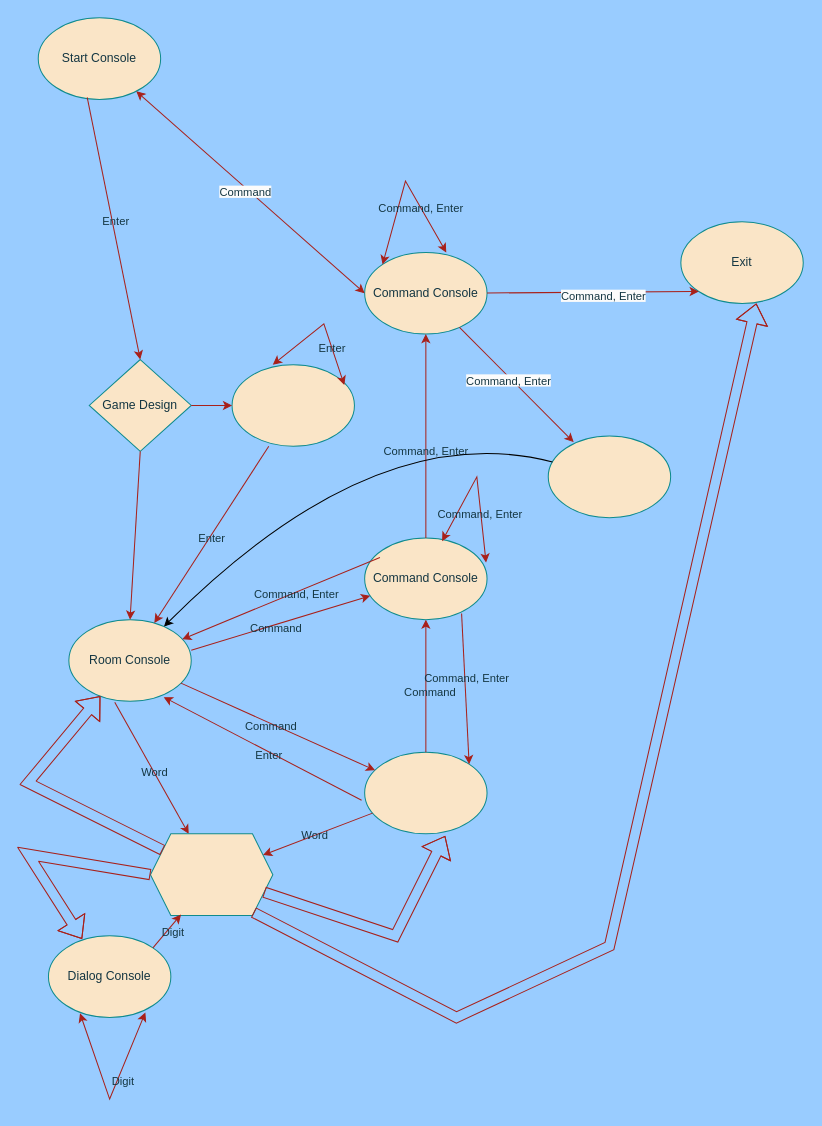
This 822x1126 diagram has some shape labels left out. Here are the shapes that lost their labels. From the top down, the box of each, then its label:
(231, 364, 354, 446): Cutscene Console
(547, 435, 671, 518): Saved Game Place Room Console
(364, 751, 487, 834): Inventory Console
(149, 833, 273, 915): Word Processor
